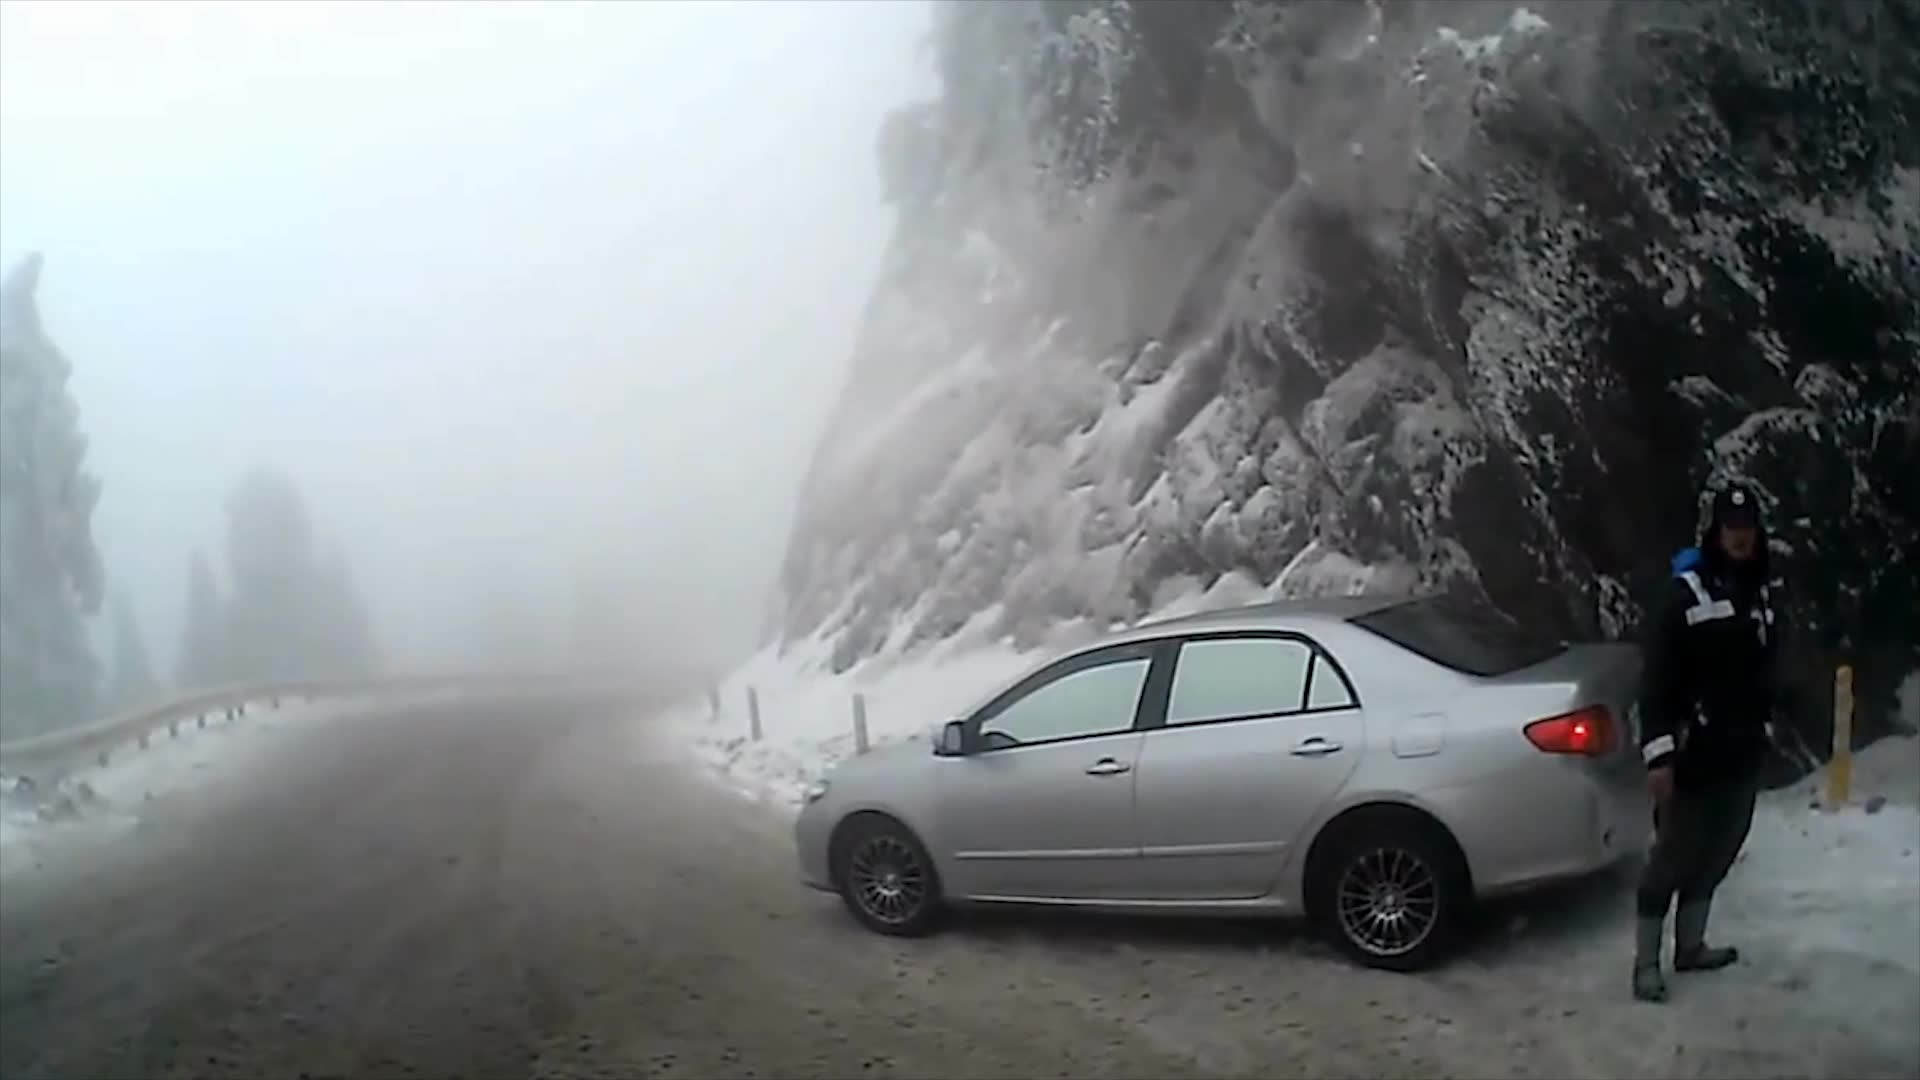pedestrian: (1633, 480, 1787, 1001)
vehicle: (793, 593, 1713, 972)
